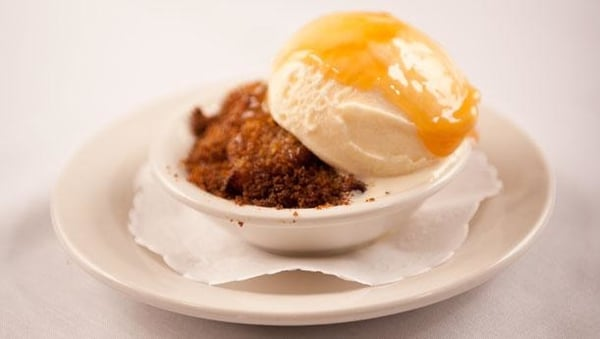sushi: (132, 29, 481, 257), (135, 95, 477, 256)
